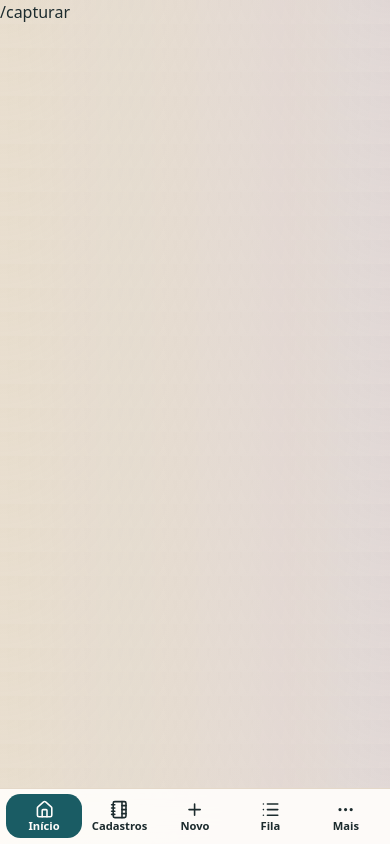
Test: painel Mais fecha sozinho › fecha também o painel da conta quando o Mais fecha
Click the button "Mais". click: point(346, 816)
box: [308,794,384,838]
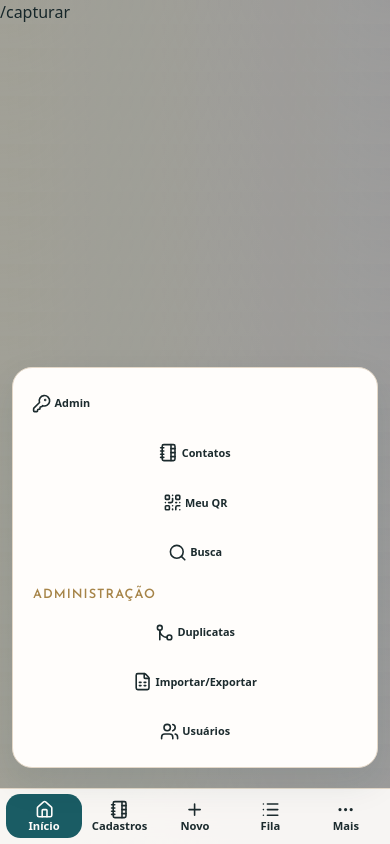
Check: the element with class "fundo-sobreposicao" is shown
Click the button "Admin". click: point(61, 404)
box: [27,382,96,426]
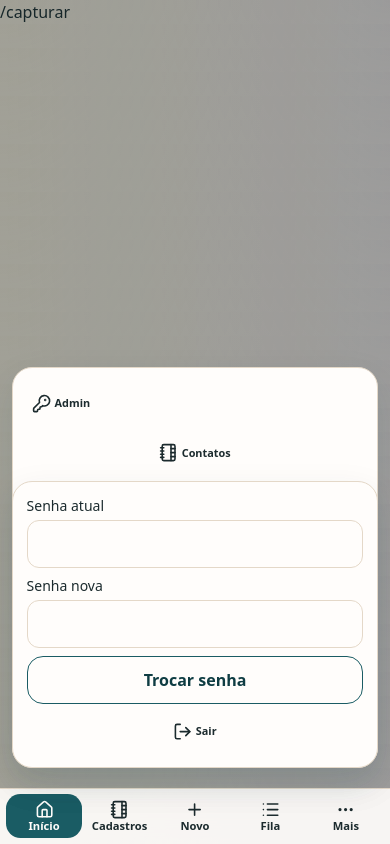
Check: the button "Sair" is shown, box [27,709,363,753]
Click the element with class "fundo-sobreposicao". click: point(195, 51)
box: [0,0,389,843]
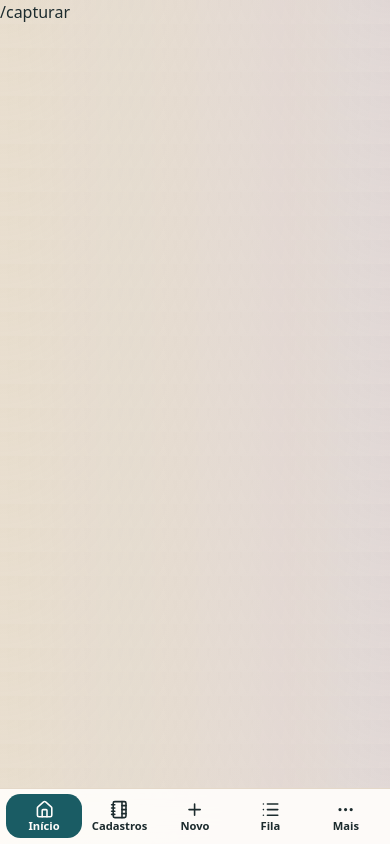
Check: the element with class "fundo-sobreposicao" is gone
Click the button "Mais". click: point(346, 816)
box: [308,794,384,838]
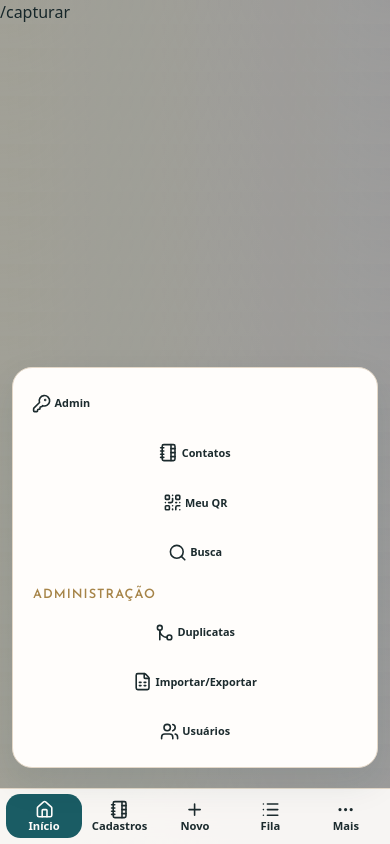
Check: the button "Sair" is not shown
Check: the element with class "fundo-sobreposicao" is shown
